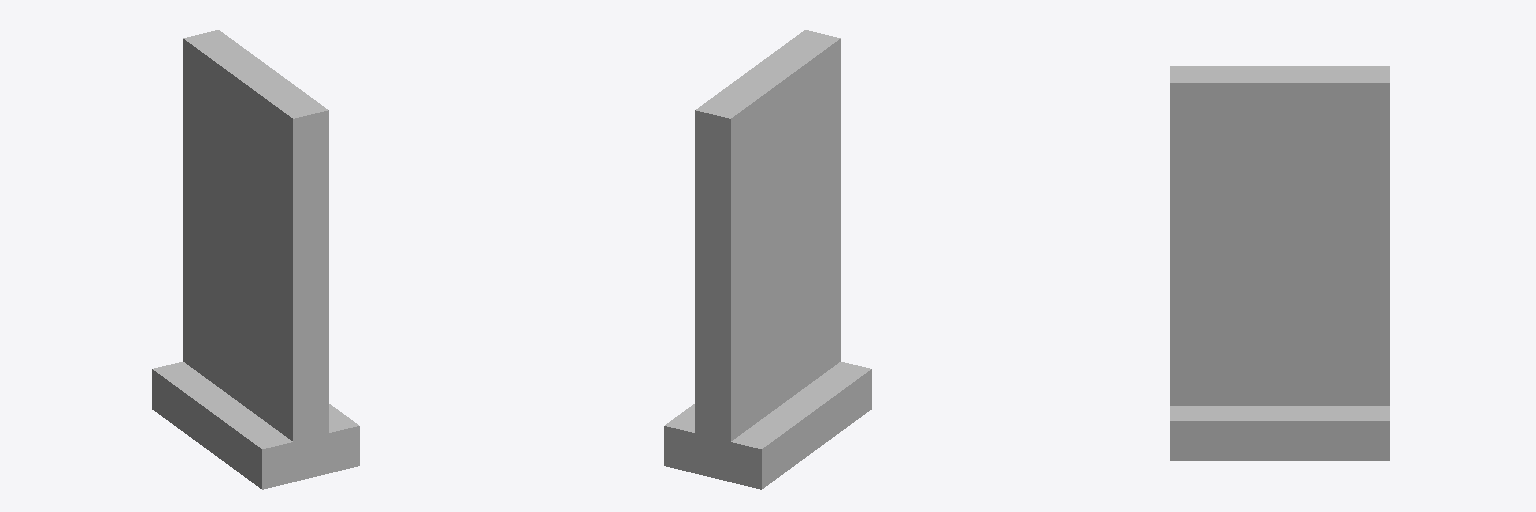
Rendered from ExhibitionFrame.obj.
The picture shows the model from 3 angles: view 1: azimuth 30°, elevation 25°; view 2: azimuth 150°, elevation 25°; view 3: azimuth 270°, elevation 25°; orthographic projection.
Visible parts, largest first — view 1: Box022; view 2: Box022; view 3: Box022.
Boxes of the visible parts, x1,y1,x2,y2 form: Box022: [152, 30, 359, 489]; Box022: [664, 30, 871, 489]; Box022: [1170, 66, 1389, 460].
Size of the model in its own units: 101 by 360 by 198.